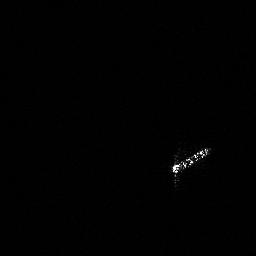ship: (172, 148, 209, 173)
